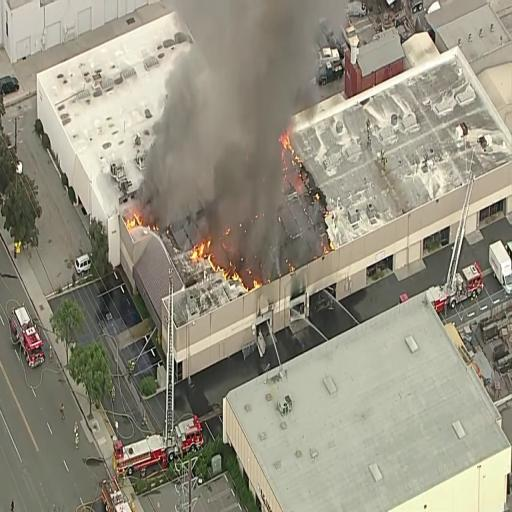smoke: (181, 0, 290, 240)
